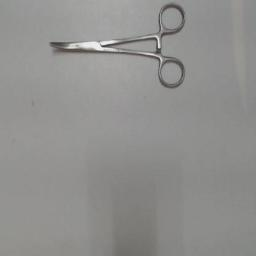Crile Artery Forceps: (46, 1, 192, 93)
